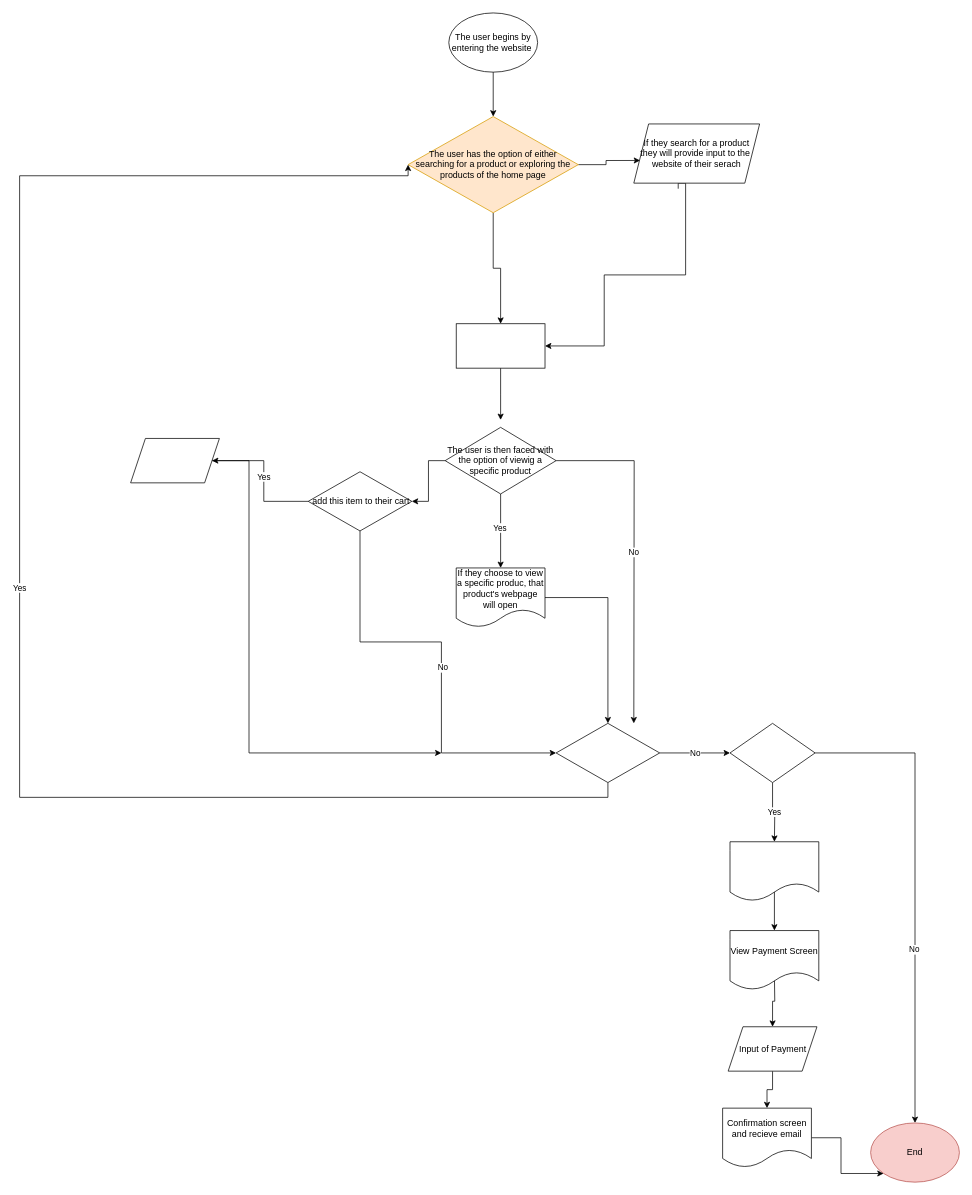
Some shapes in this 972 by 1195 pixel diagram are drawn without their labels. Each missing label, with the centre of its shape:
"Added to cart confirmation" belongs at point (174, 460).
"Checkout?" belongs at point (772, 753).
"Continue shopping?" belongs at point (607, 753).
"The user will the begin looking over the products" belongs at point (500, 345).
"View Cart Screen" belongs at point (774, 871).
